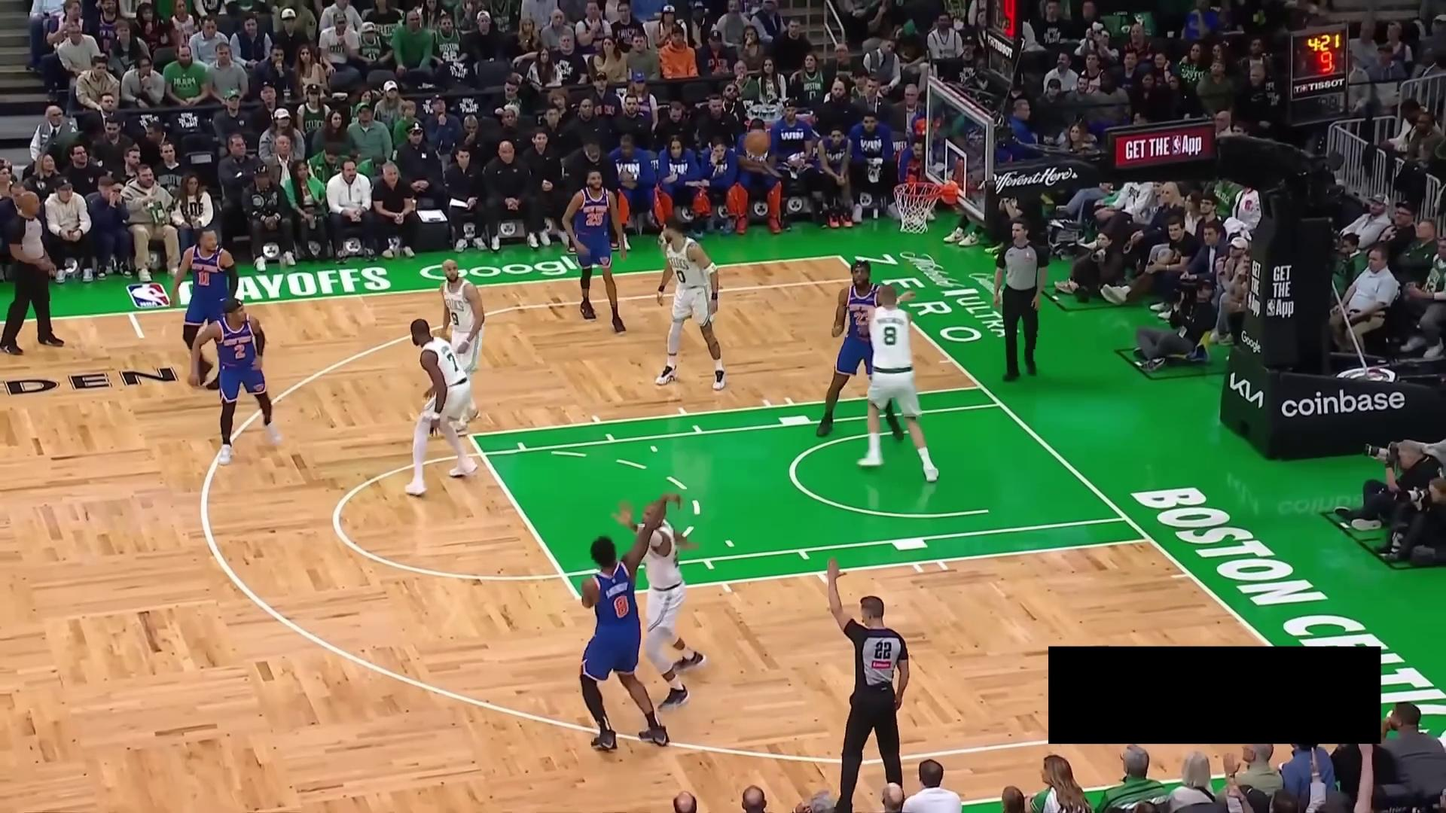ball: (743, 129, 771, 156)
number: (612, 593, 630, 619), (883, 325, 898, 346), (585, 211, 604, 227), (445, 352, 460, 372), (853, 310, 869, 327), (197, 269, 211, 287), (233, 343, 246, 360), (450, 309, 461, 327), (675, 268, 687, 284)
player: (578, 492, 671, 753), (612, 491, 708, 714), (816, 259, 910, 443), (855, 282, 940, 484), (188, 296, 284, 467), (402, 317, 480, 498), (655, 218, 728, 391), (169, 224, 244, 391), (562, 166, 629, 335), (437, 257, 487, 437)
referee: (826, 556, 911, 813), (0, 191, 66, 355), (992, 215, 1050, 382)
rim: (893, 181, 943, 199)
